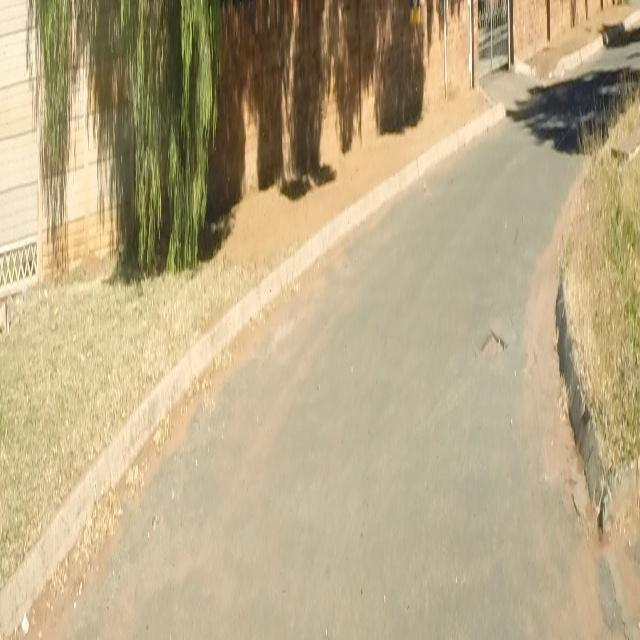pothole: (475, 320, 513, 363)
